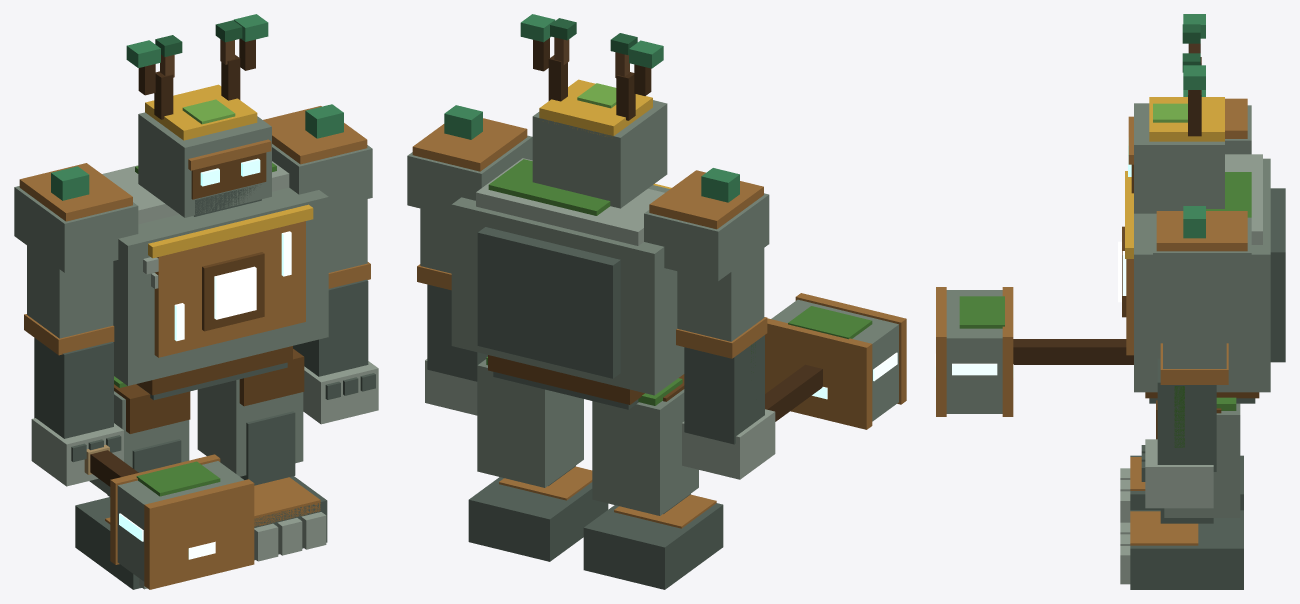
Rendered from boss-guardian.glb.
3 renders of one model, left to right at view 1: azimuth 30°, elevation 25°; view 2: azimuth 150°, elevation 25°; view 3: azimuth 270°, elevation 25°, orthographic. The views are drawn at different scales.
Visible parts, largest first — view 1: body, body_plate, weapon_head_rim_b, head, right_arm_fore, body_shoulder_r, right_arm, left_leg, left_arm_fore, body_shoulder_l, left_leg_shin, weapon_head (+41 smaller); view 2: body_back, body, left_leg, right_leg, head, right_foot, weapon_head_rim_a, left_foot, right_arm_fore, body_shoulder_r, right_arm, body_top (+25 smaller); view 3: body, head, left_foot, body_shoulder_l, weapon_head, left_arm_fore, left_arm, left_hand, left_leg, body_shoulder_l_plate, weapon_haft, body_back (+18 smaller).
Part boxes in pixels (x1,y1,x2,y2): body: (113, 187, 328, 385); body_plate: (154, 221, 305, 357); weapon_head_rim_b: (144, 479, 254, 589); head: (138, 112, 271, 217); right_arm_fore: (34, 338, 113, 438); body_shoulder_r: (14, 186, 138, 272); right_arm: (27, 235, 113, 338); left_leg: (197, 379, 303, 476); left_arm_fore: (293, 279, 368, 376); body_shoulder_l: (272, 144, 372, 208); left_leg_shin: (240, 411, 295, 485); weapon_head: (117, 461, 244, 581); body_back: (477, 227, 620, 378); body: (451, 185, 684, 395); left_leg: (477, 359, 583, 487); right_leg: (592, 389, 698, 515); head: (532, 100, 667, 208); right_foot: (583, 503, 723, 589); weapon_head_rim_a: (765, 318, 872, 429); left_foot: (468, 477, 608, 561); right_arm_fore: (684, 335, 764, 444); body_shoulder_r: (644, 193, 769, 281); right_arm: (677, 248, 764, 341); body_top: (476, 158, 664, 245); body: (1134, 158, 1270, 392); head: (1134, 103, 1224, 213); left_foot: (1130, 510, 1243, 589); body_shoulder_l: (1153, 217, 1251, 300); weapon_head: (946, 290, 1002, 413); left_arm_fore: (1157, 358, 1216, 471); left_arm: (1163, 290, 1226, 368); left_hand: (1145, 439, 1213, 508); left_leg: (1164, 403, 1240, 517); body_shoulder_l_plate: (1156, 211, 1247, 251); weapon_haft: (1013, 339, 1133, 364); body_back: (1270, 188, 1285, 362).
Size of the model in its own units: 5.01 by 7.28 by 4.62.
